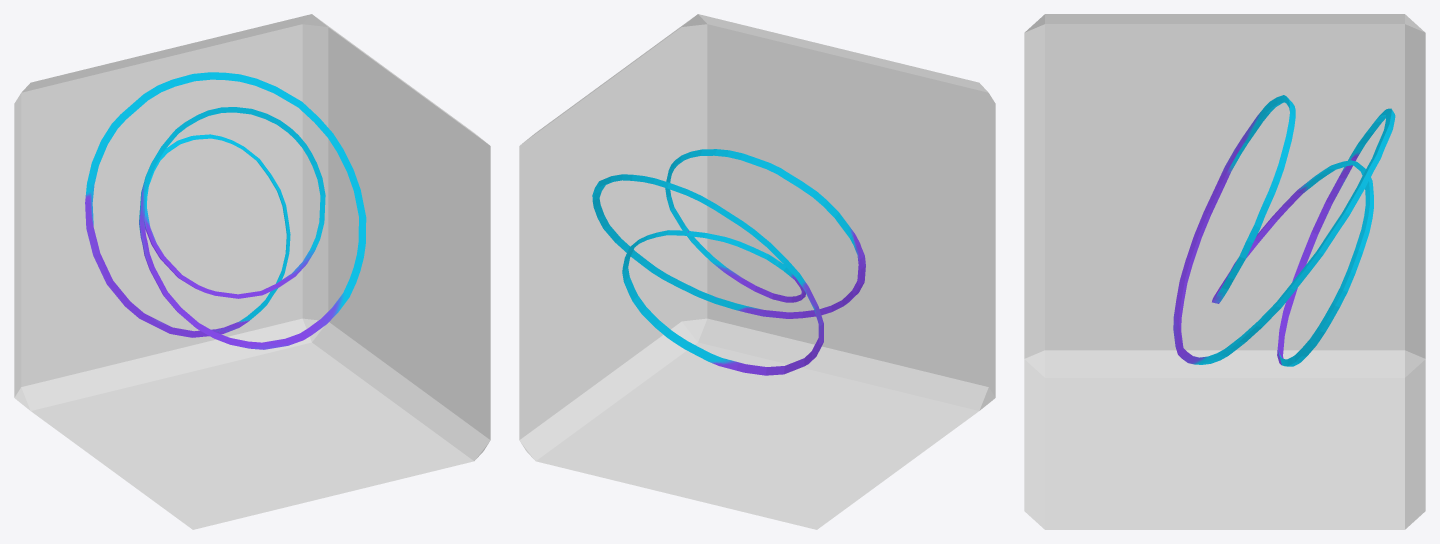
3 views of the same model, side by side, from view 1: azimuth 30°, elevation 25°; view 2: azimuth 150°, elevation 25°; view 3: azimuth 270°, elevation 25° (orthographic). The views are drawn at different scales.
Visible parts, largest first — view 1: Cube, line.001; view 2: Cube, line.001; view 3: Cube, line.001.
Part boxes in pixels (x1,y1,x2,y2): Cube: (14,14,490,529); line.001: (85,72,366,349); Cube: (519,14,995,529); line.001: (592,149,865,375); Cube: (1024,14,1425,529); line.001: (1173,95,1395,366).
Size of the model in its own units: 1.81 by 1.81 by 1.81.
Materials: 2 (1 with a texture image).
